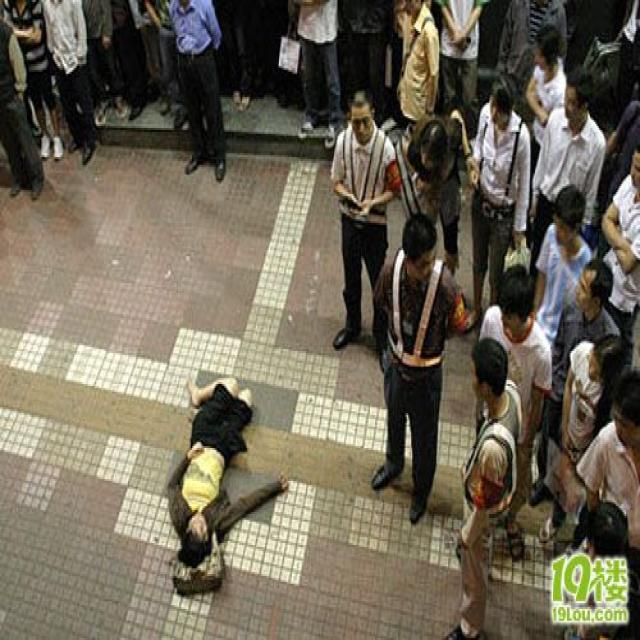10-: (0, 0, 639, 638)
down: (158, 342, 286, 568)
